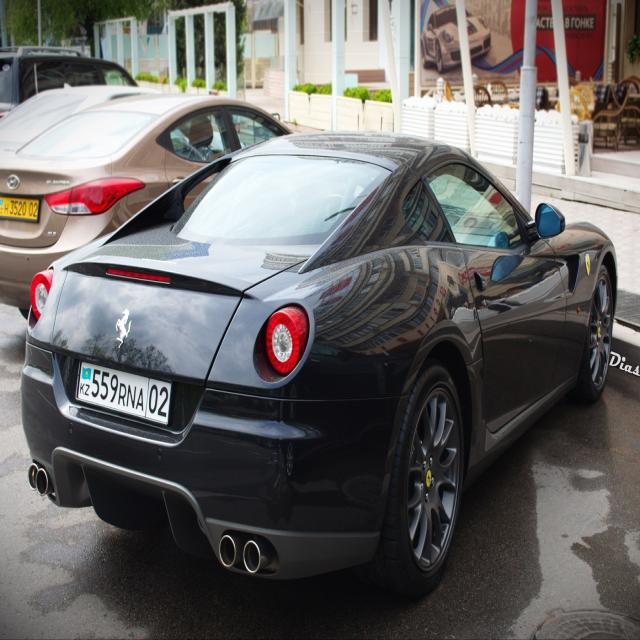car: (20, 127, 618, 598), (0, 92, 293, 318), (420, 5, 491, 73)
license: (75, 360, 172, 426)
